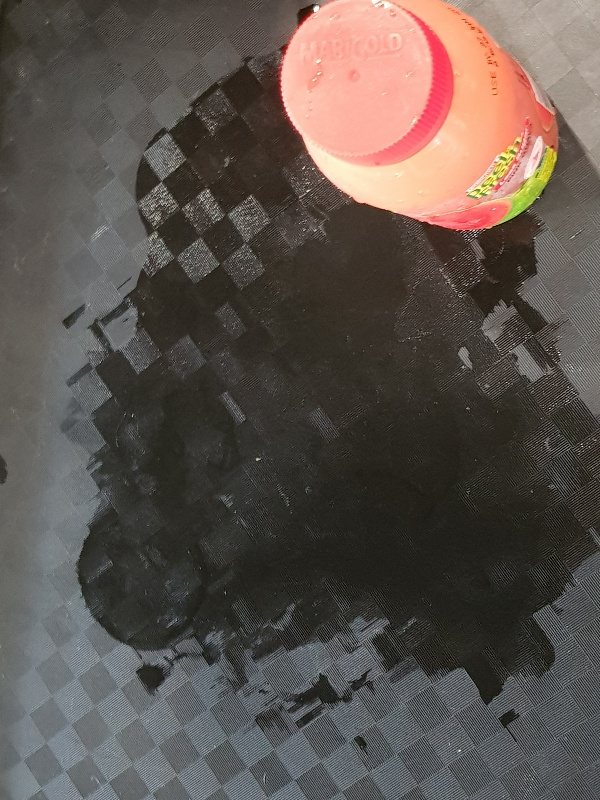Marigold Peel Fresh Pink Guava Juice Drink: (278, 1, 558, 233)
